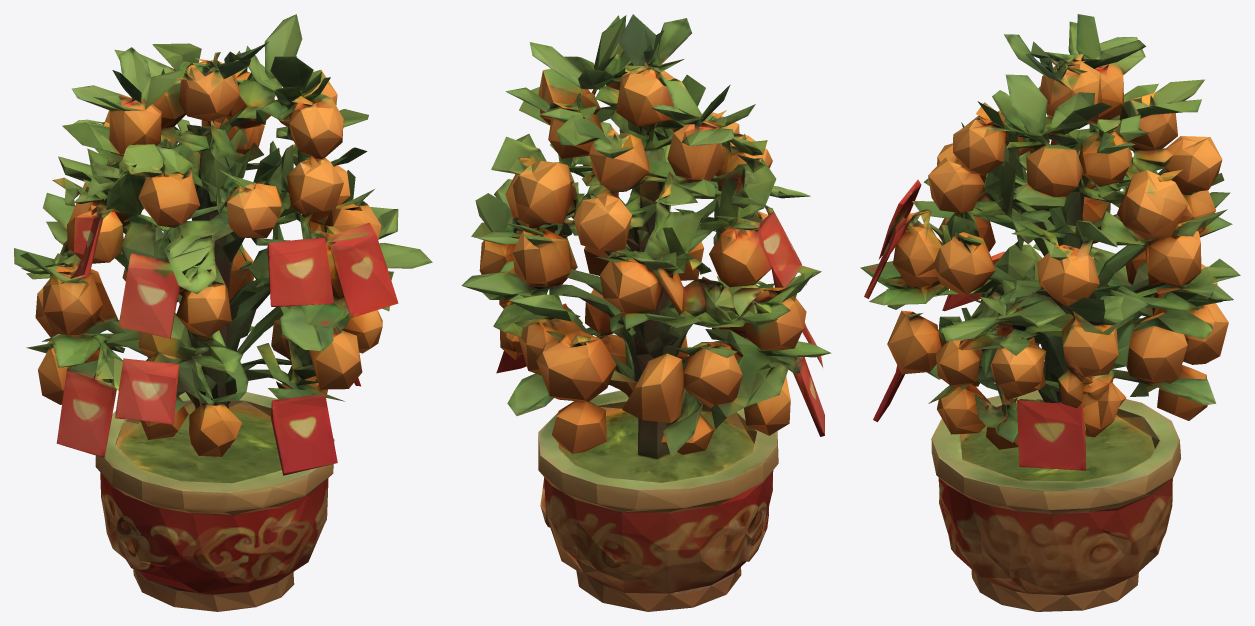
The model's file is OrangeTree.glb.
3 views of the same model, side by side, from view 1: azimuth 30°, elevation 25°; view 2: azimuth 150°, elevation 25°; view 3: azimuth 270°, elevation 25° (orthographic).
Parts seen in each view (by area): view 1: tripo_node_6975eaf9-747d-4dbf-8b26-77f5506323b0; view 2: tripo_node_6975eaf9-747d-4dbf-8b26-77f5506323b0; view 3: tripo_node_6975eaf9-747d-4dbf-8b26-77f5506323b0.
Part boxes in pixels (left/top/right/bottom): tripo_node_6975eaf9-747d-4dbf-8b26-77f5506323b0: left=14, top=14, right=432, bottom=611; tripo_node_6975eaf9-747d-4dbf-8b26-77f5506323b0: left=461, top=14, right=831, bottom=611; tripo_node_6975eaf9-747d-4dbf-8b26-77f5506323b0: left=860, top=14, right=1240, bottom=611.
Size of the model in its own units: 0.6673 by 1 by 0.6342.
Materials: 1 (1 with a texture image).
